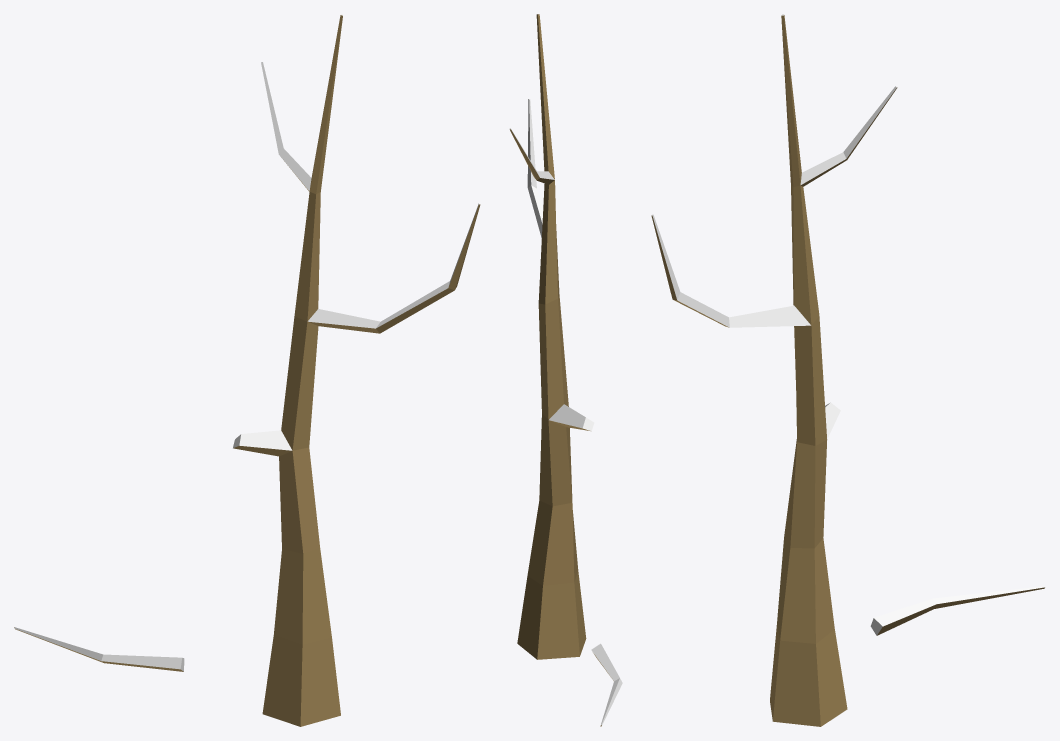
Rendered from Oak_Tree_NoLeaves_crk_m_Snow_BT_02.fbx.
3 renders of one model, left to right at view 1: azimuth 30°, elevation 25°; view 2: azimuth 150°, elevation 25°; view 3: azimuth 270°, elevation 25°, orthographic. The views are drawn at different scales.
Visible parts, largest first — view 1: Oak_Tree_NoLeaves_crk_m_Snow_BT_02; view 2: Oak_Tree_NoLeaves_crk_m_Snow_BT_02; view 3: Oak_Tree_NoLeaves_crk_m_Snow_BT_02.
Part boxes in pixels (x1,y1,x2,y2): Oak_Tree_NoLeaves_crk_m_Snow_BT_02: [14, 14, 480, 726]; Oak_Tree_NoLeaves_crk_m_Snow_BT_02: [509, 14, 622, 726]; Oak_Tree_NoLeaves_crk_m_Snow_BT_02: [651, 14, 1045, 726].
Bounding box in the file's own units: 259 × 628 × 316.
